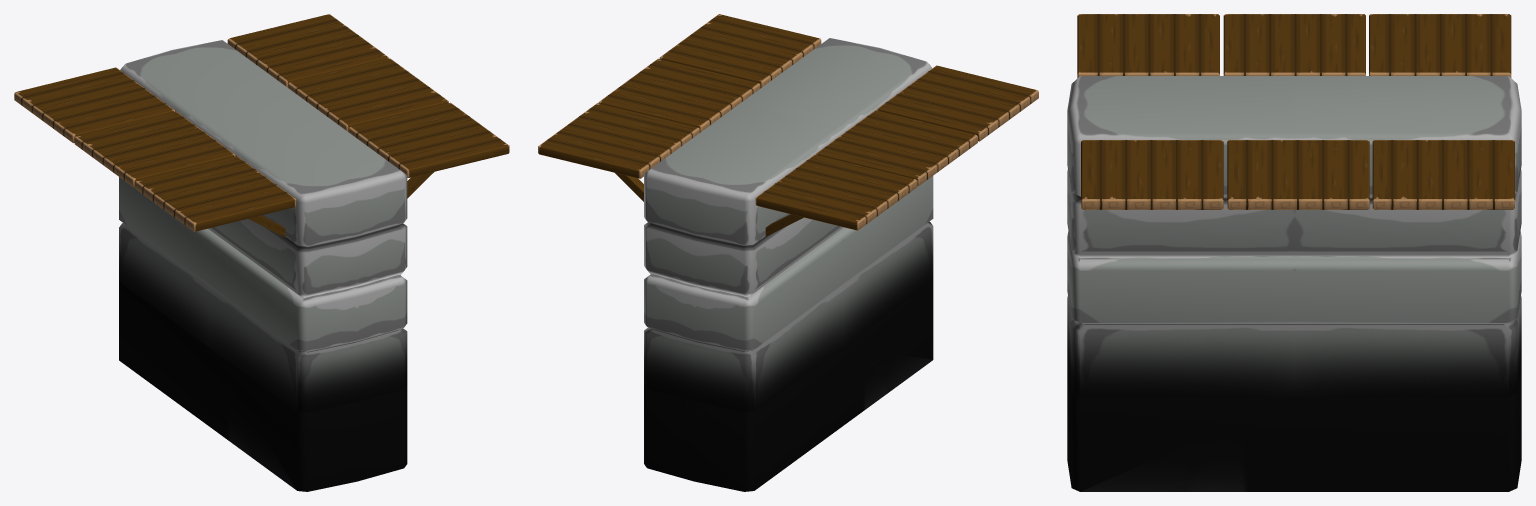
File: mod_med_her_part_a_13.fbx
3 views of the same model, side by side, from view 1: azimuth 30°, elevation 25°; view 2: azimuth 150°, elevation 25°; view 3: azimuth 270°, elevation 25° (orthographic). The views are drawn at different scales.
Visible parts, largest first — view 1: mod_med_her_part_a_13; view 2: mod_med_her_part_a_13; view 3: mod_med_her_part_a_13.
Boxes of the visible parts, x1,y1,x2,y2 form: mod_med_her_part_a_13: [14, 14, 509, 491]; mod_med_her_part_a_13: [538, 14, 1038, 491]; mod_med_her_part_a_13: [1067, 14, 1521, 491].
Size of the model in its own units: 36.18 by 32.14 by 37.21.
